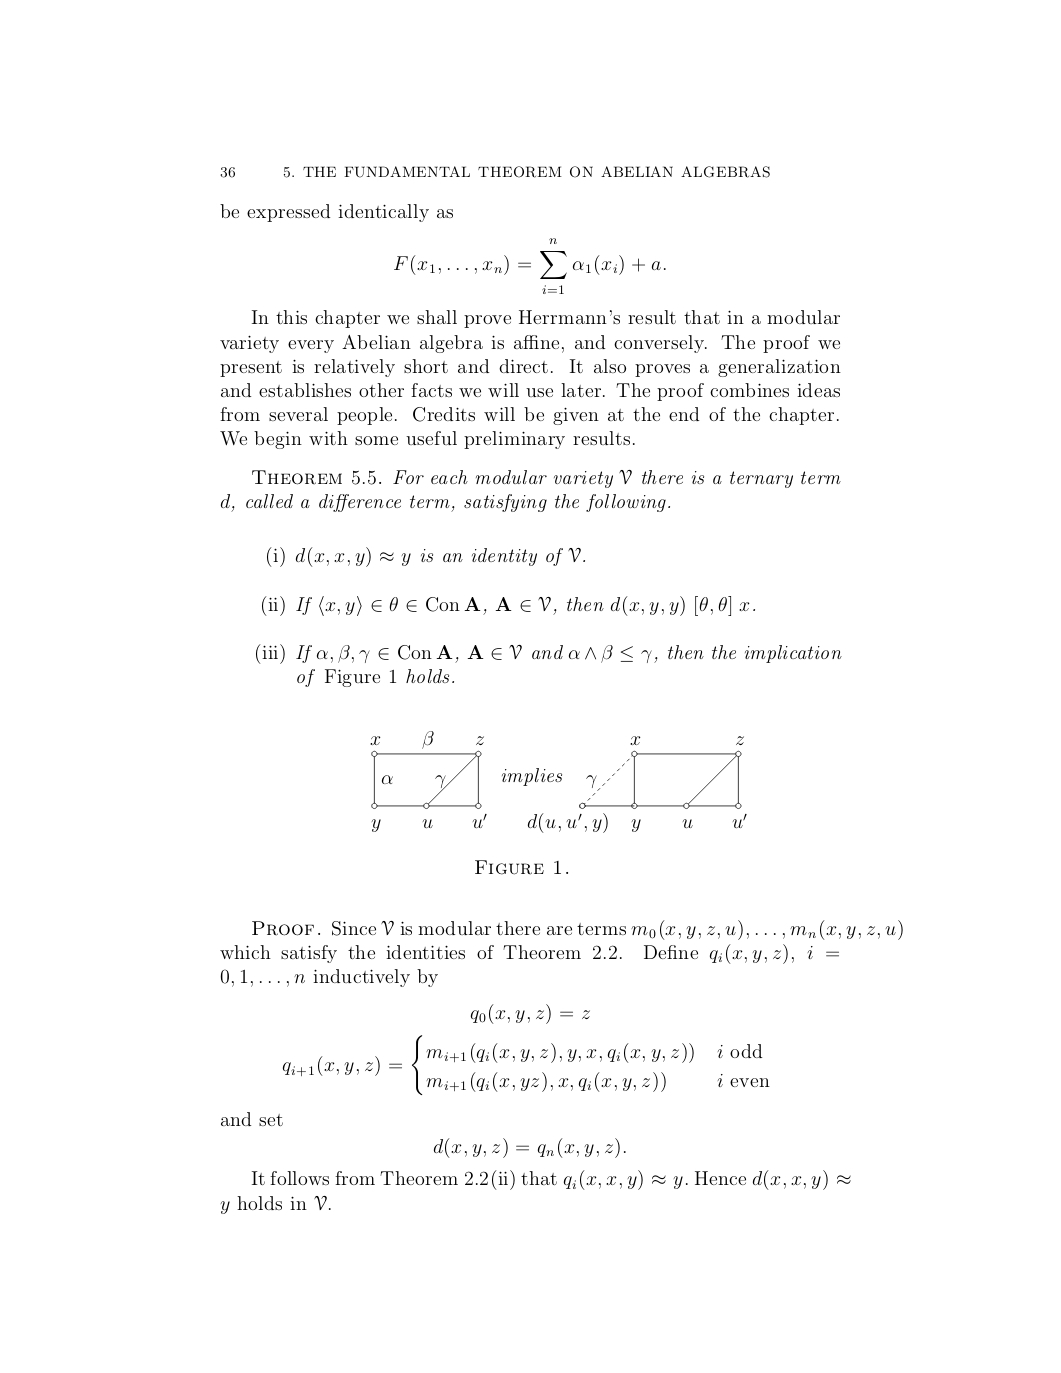figure: (370, 731, 746, 832)
formula: (282, 1034, 769, 1096), (395, 238, 665, 293), (262, 595, 755, 616), (267, 546, 585, 567), (434, 1137, 625, 1158), (470, 1003, 588, 1024)
